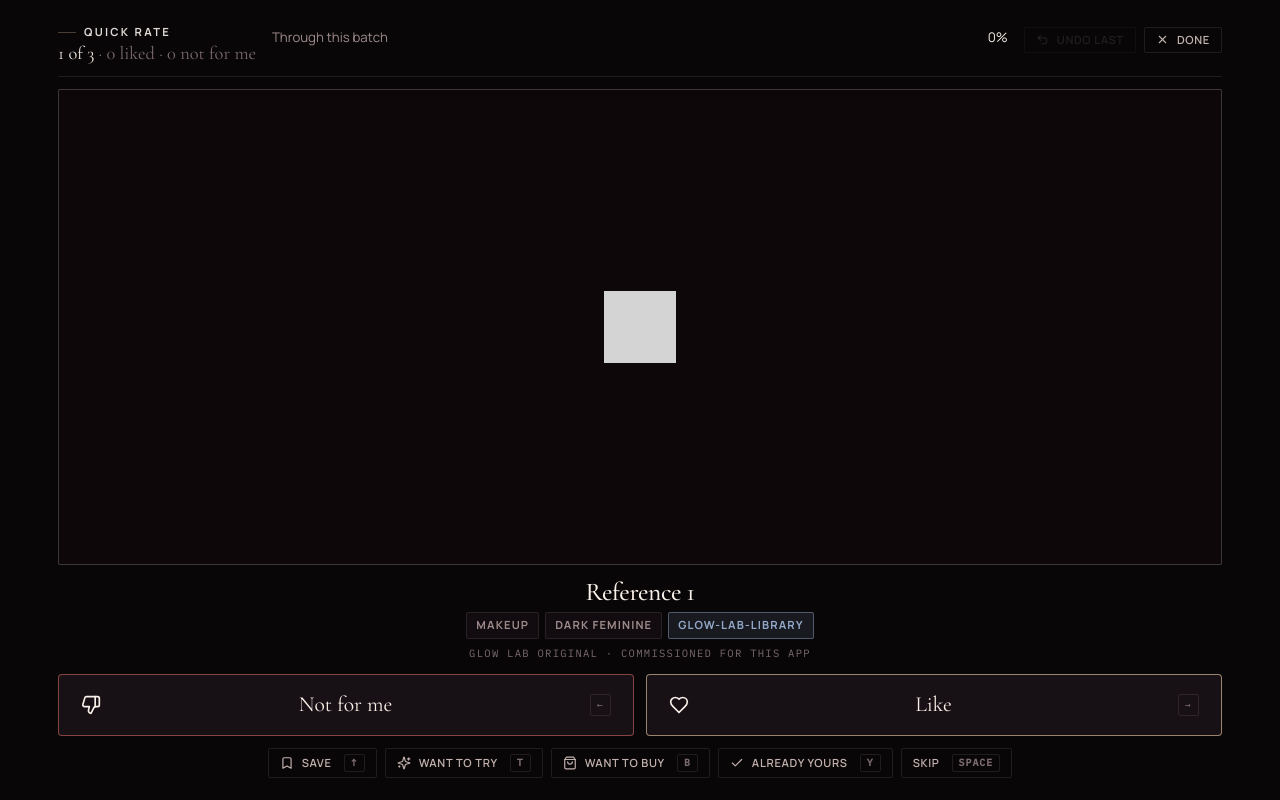
Scenario: QuickRate › writes one action per tap and moves on
Step 1. Click the button "Like →" → (934, 705), box x1=646 y1=674 x2=1222 y2=736
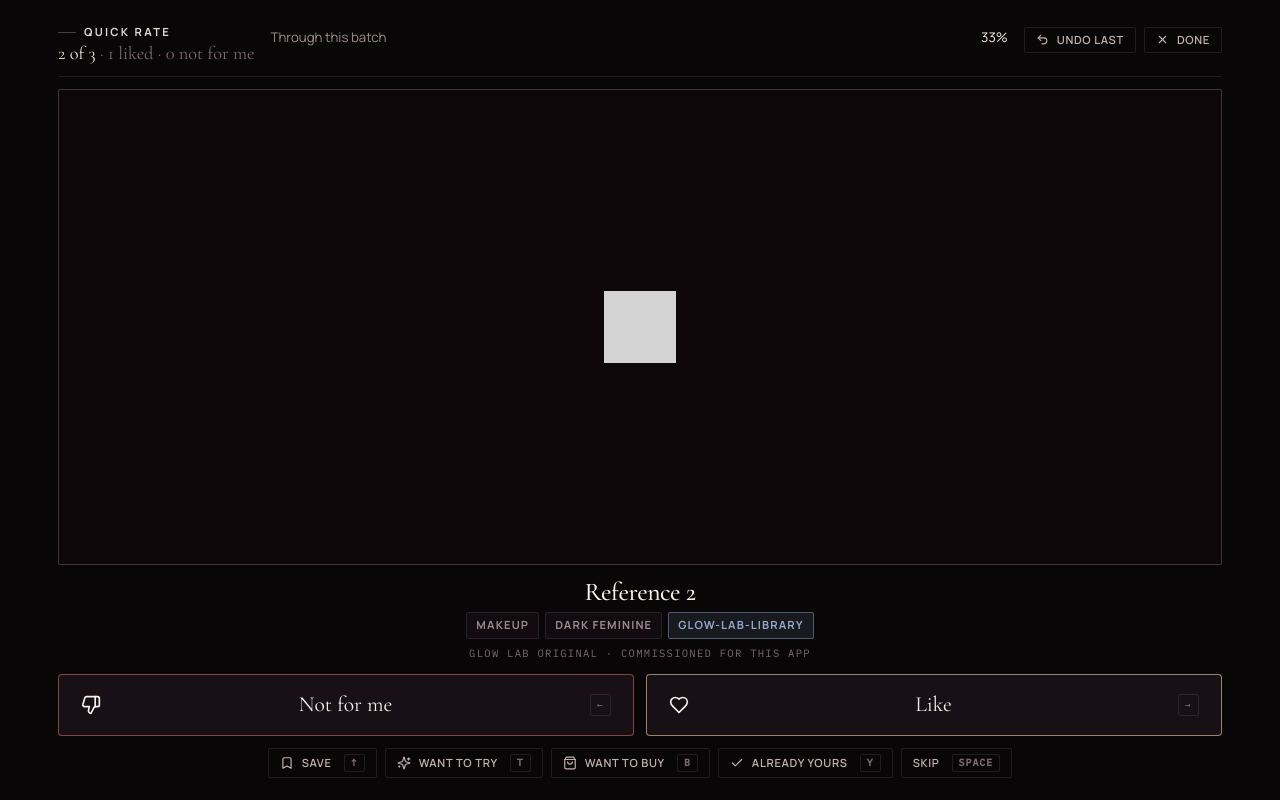
expect the text "2 of 3" is shown: met, box x1=58 y1=42 x2=96 y2=64
expect the text "1 liked" is shown: met, box x1=96 y1=42 x2=255 y2=64
